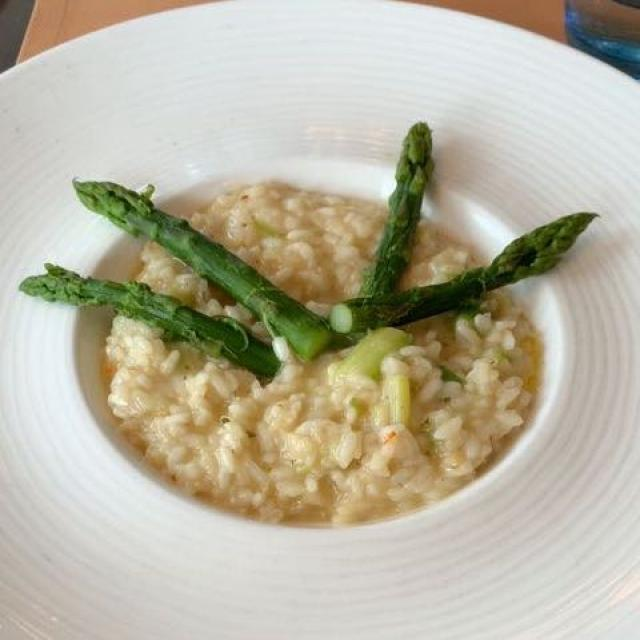asparagus: (18, 121, 603, 390)
risotto: (50, 148, 565, 507)
